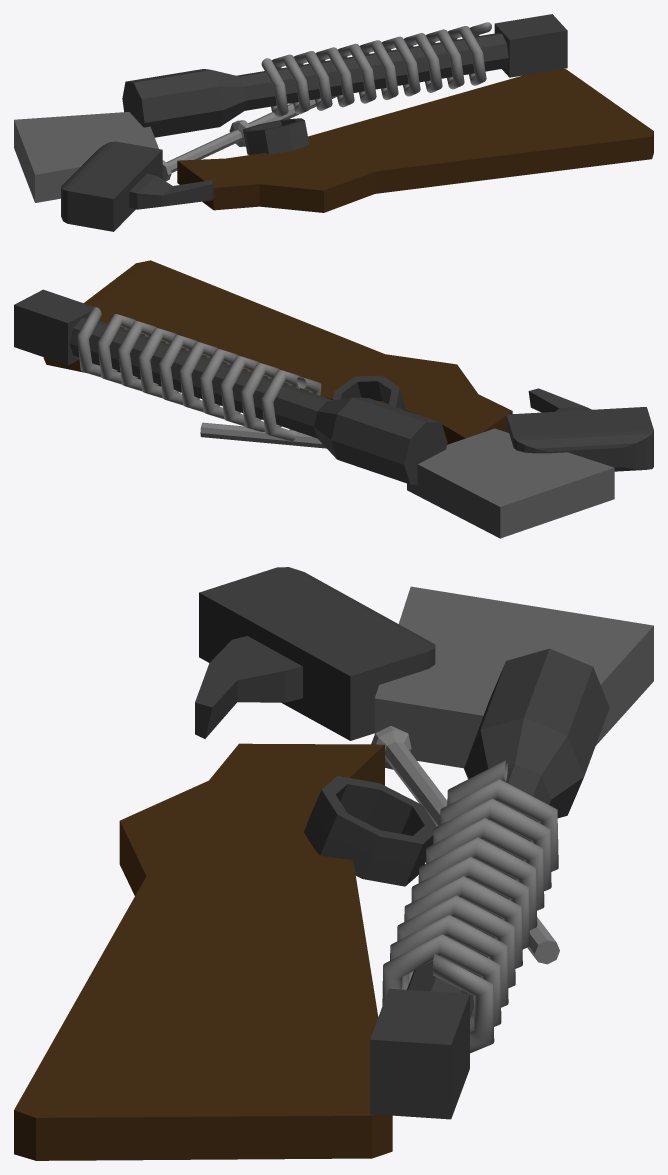
File: BasicGunPartsModel.glb
3 renders of one model, top to bottom at view 1: azimuth 30°, elevation 25°; view 2: azimuth 150°, elevation 25°; view 3: azimuth 270°, elevation 25°, orthographic. The views are drawn at different scales.
Parts seen in each view (by area): view 1: RifleGrip, Barrel, Spring, Magazine, TriggerAssembly, BarrelEnd, Trigger, Nut, Rod; view 2: RifleGrip, Magazine, Barrel, Spring, TriggerAssembly, BarrelEnd, Nut, Rod, Trigger; view 3: RifleGrip, Spring, Magazine, TriggerAssembly, Barrel, BarrelEnd, Nut, Trigger, Rod.
Boxes of the visible parts, <box> form: RifleGrip: <box>177,69,653,212</box>; Barrel: <box>122,33,508,137</box>; Spring: <box>261,22,491,116</box>; Magazine: <box>14,112,158,202</box>; TriggerAssembly: <box>61,141,162,231</box>; BarrelEnd: <box>494,14,567,77</box>; Trigger: <box>129,173,214,209</box>; Nut: <box>243,118,309,154</box>; Rod: <box>162,96,336,181</box>; RifleGrip: <box>43,260,512,444</box>; Magazine: <box>407,428,614,538</box>; Barrel: <box>69,318,447,484</box>; Spring: <box>77,307,321,441</box>; TriggerAssembly: <box>506,407,653,471</box>; BarrelEnd: <box>14,289,93,365</box>; Nut: <box>333,375,404,409</box>; Rod: <box>200,422,326,448</box>; Trigger: <box>528,388,591,412</box>; RifleGrip: <box>14,743,392,1160</box>; Spring: <box>382,760,558,1053</box>; Magazine: <box>374,586,653,768</box>; TriggerAssembly: <box>199,567,435,740</box>; Barrel: <box>407,648,609,1018</box>; BarrelEnd: <box>370,988,469,1119</box>; Nut: <box>304,776,436,886</box>; Trigger: <box>195,636,302,738</box>; Rod: <box>371,726,559,964</box>.
Size of the model in its own units: 2.57 by 0.3371 by 1.36.
